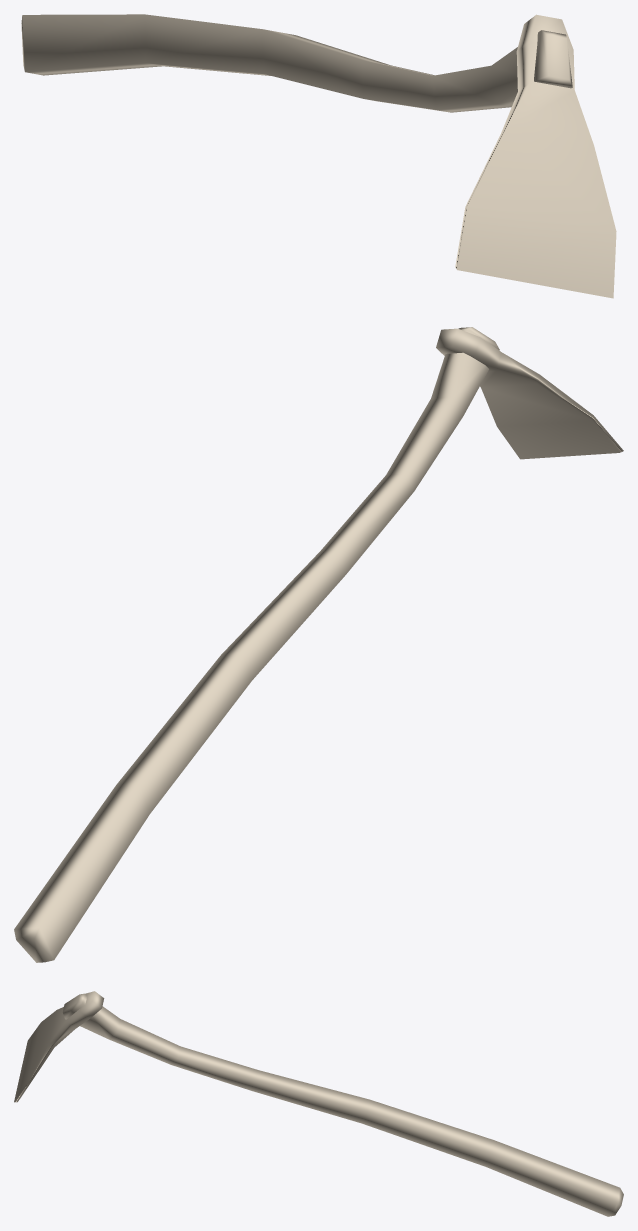
Rendered from hoe-base.glb.
3 views of the same model, one above another, from view 1: azimuth 30°, elevation 25°; view 2: azimuth 150°, elevation 25°; view 3: azimuth 270°, elevation 25° (orthographic). The views are drawn at different scales.
Bounding box in the file's own units: 0.3179 × 0.6906 × 1.73.
